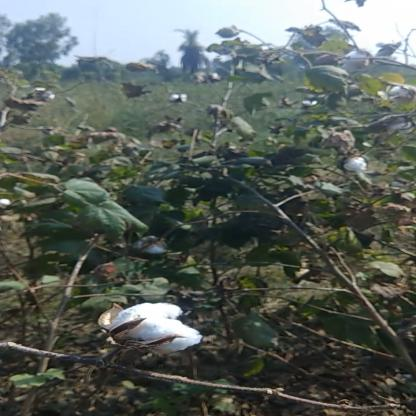cotton_ready: (67, 292, 227, 376)
